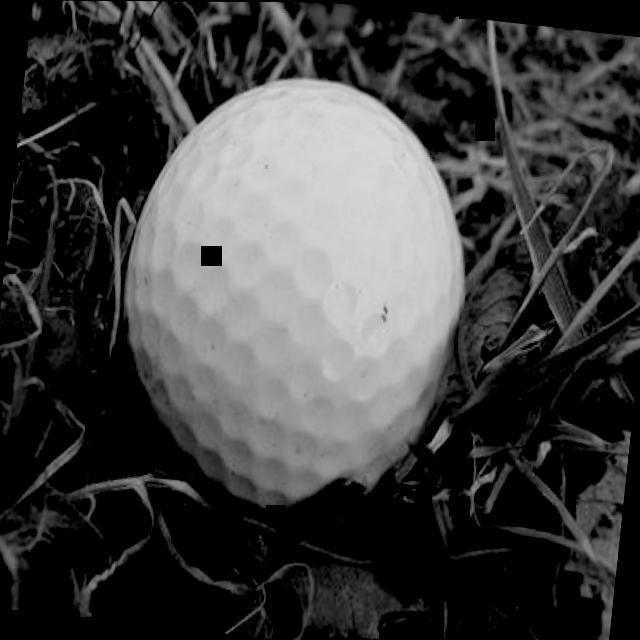golf ball: (93, 33, 500, 529)
